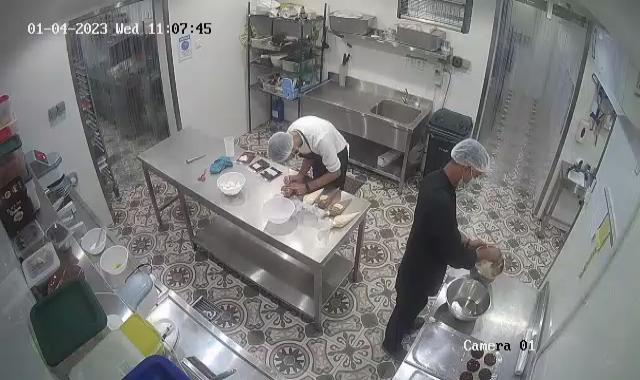hairnet: (451, 138, 491, 180), (265, 130, 295, 165)
